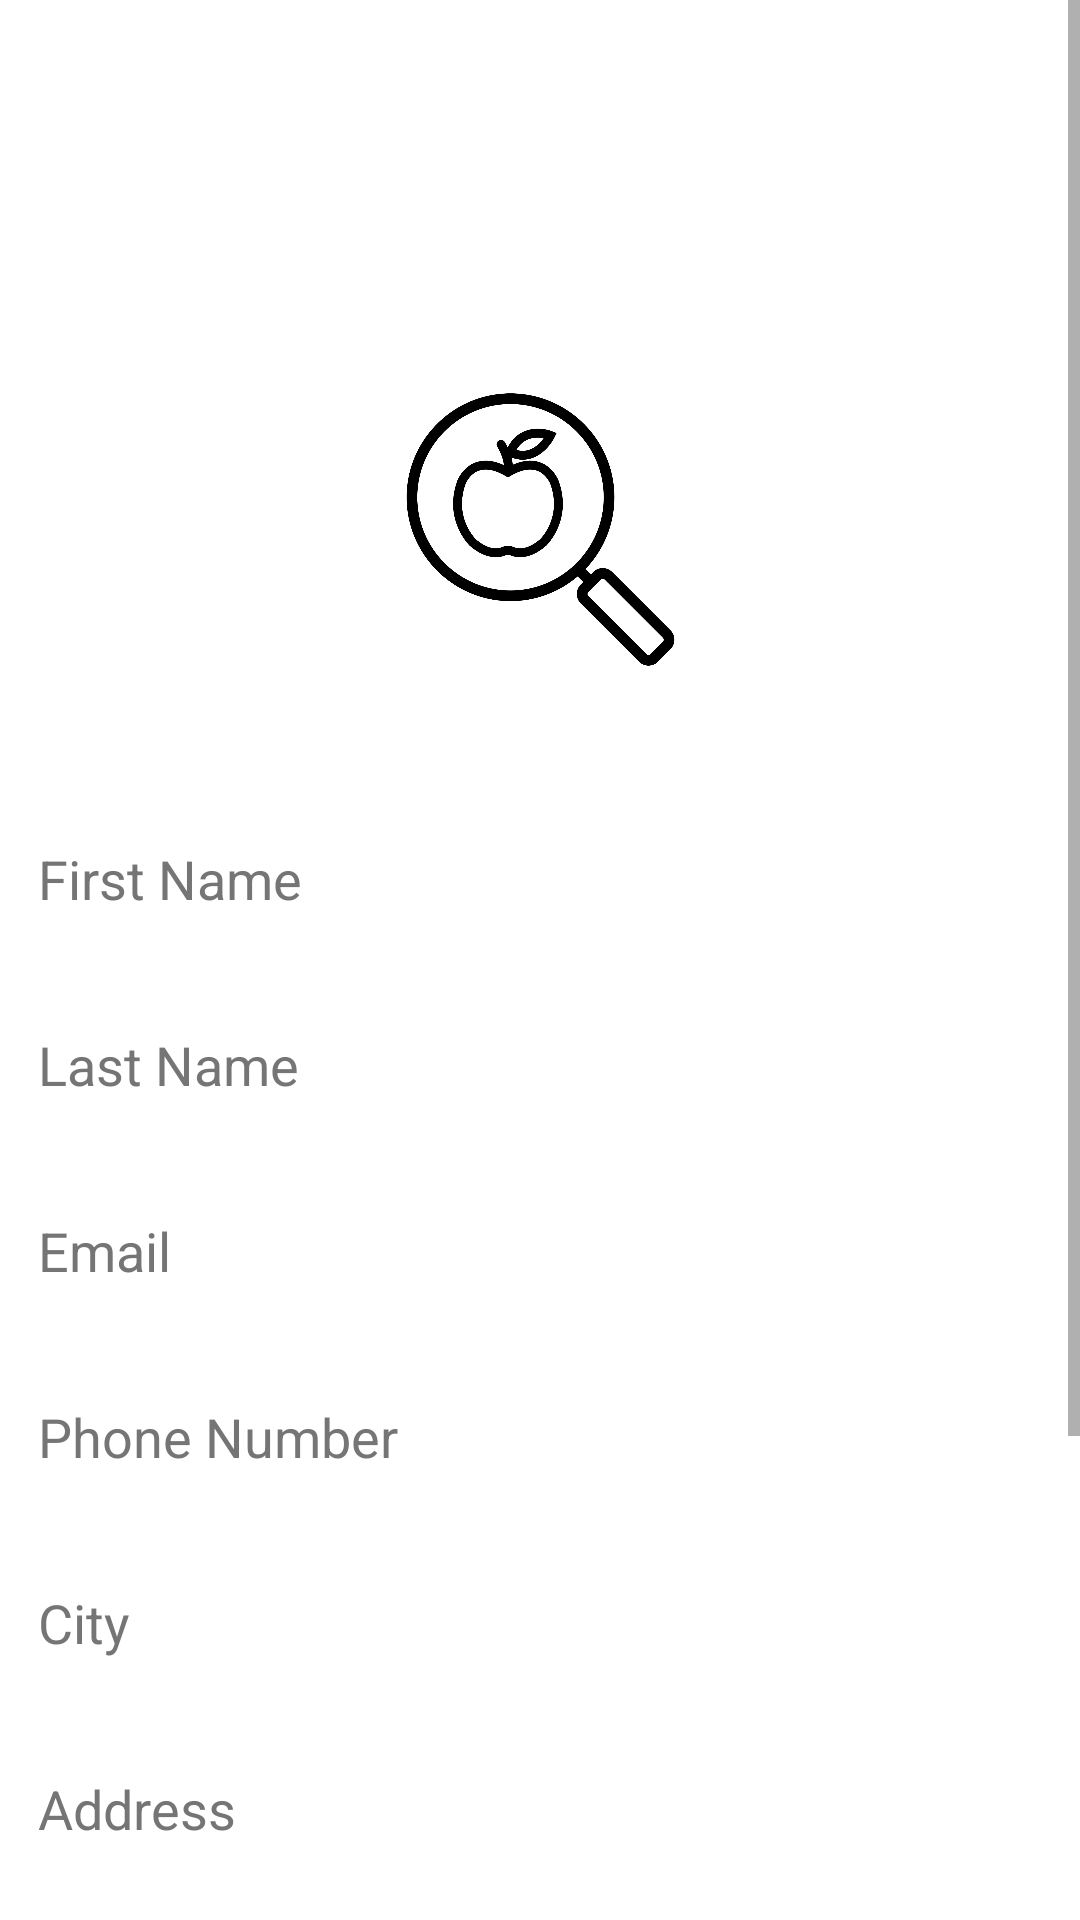

Where icons sit on this 1080*1920 app screen, as (x1, y1, x2, y2):
appicon: (406, 393, 675, 666)
